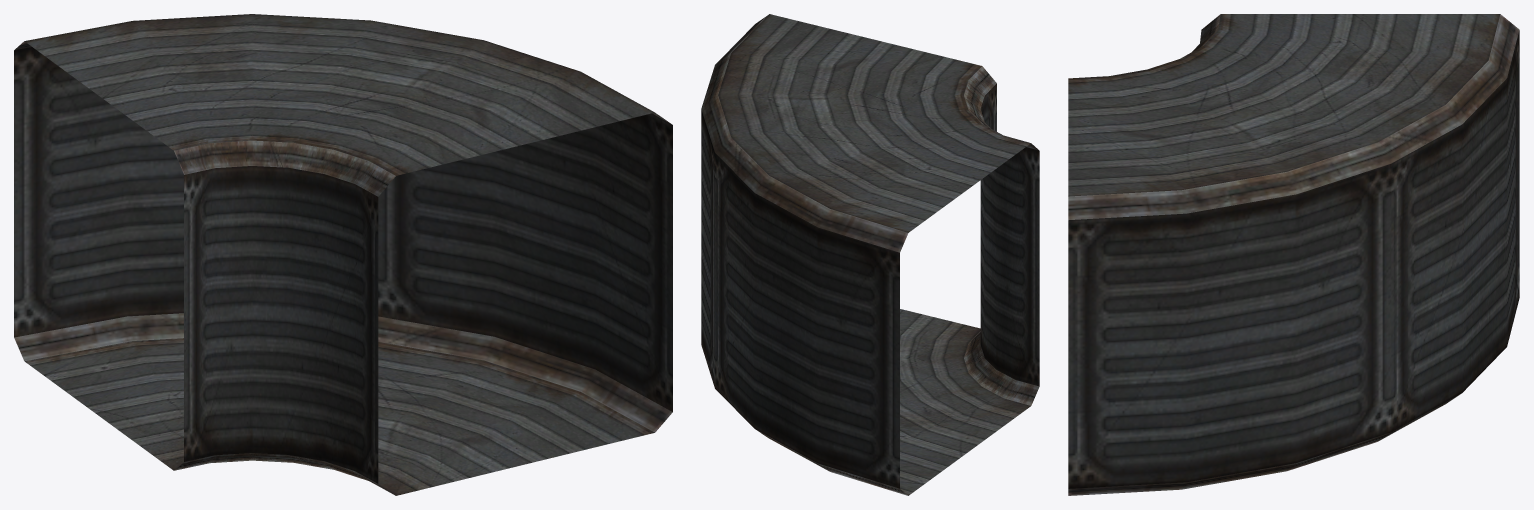
File: trainstation_maintenance_tunnels_turn.dae
3 renders of one model, left to right at view 1: azimuth 30°, elevation 25°; view 2: azimuth 150°, elevation 25°; view 3: azimuth 270°, elevation 25°, orthographic. The views are drawn at different scales.
Parts seen in each view (by area): view 1: turn; view 2: turn; view 3: turn.
Part boxes in pixels (<box>): turn: <box>14,14,672,495</box>; turn: <box>701,14,1039,495</box>; turn: <box>1068,14,1519,495</box>.
Size of the model in its own units: 1.93 by 1.41 by 1.93.
